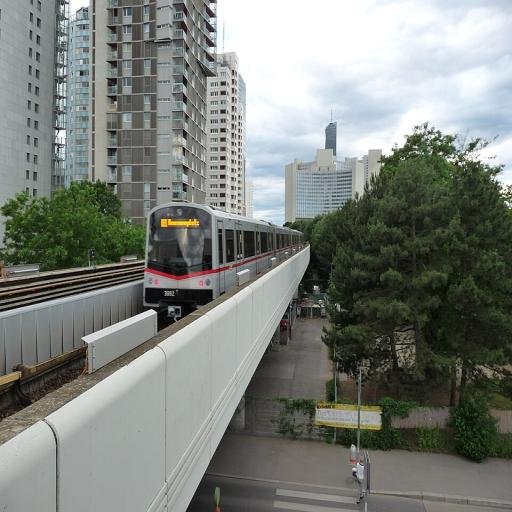V-Wagen: (143, 200, 307, 318)
